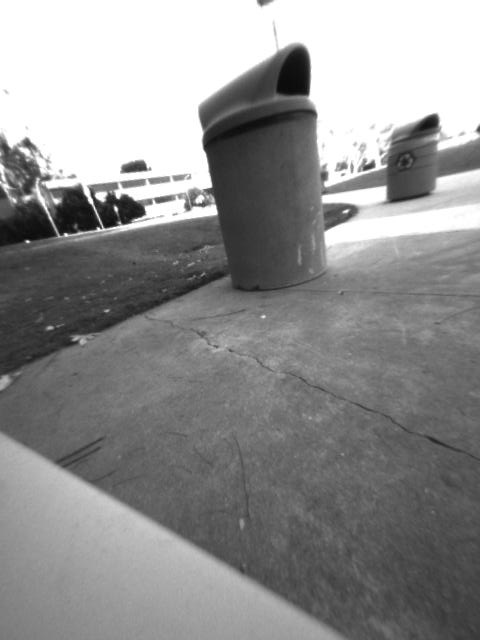trashcan: (191, 39, 338, 303)
